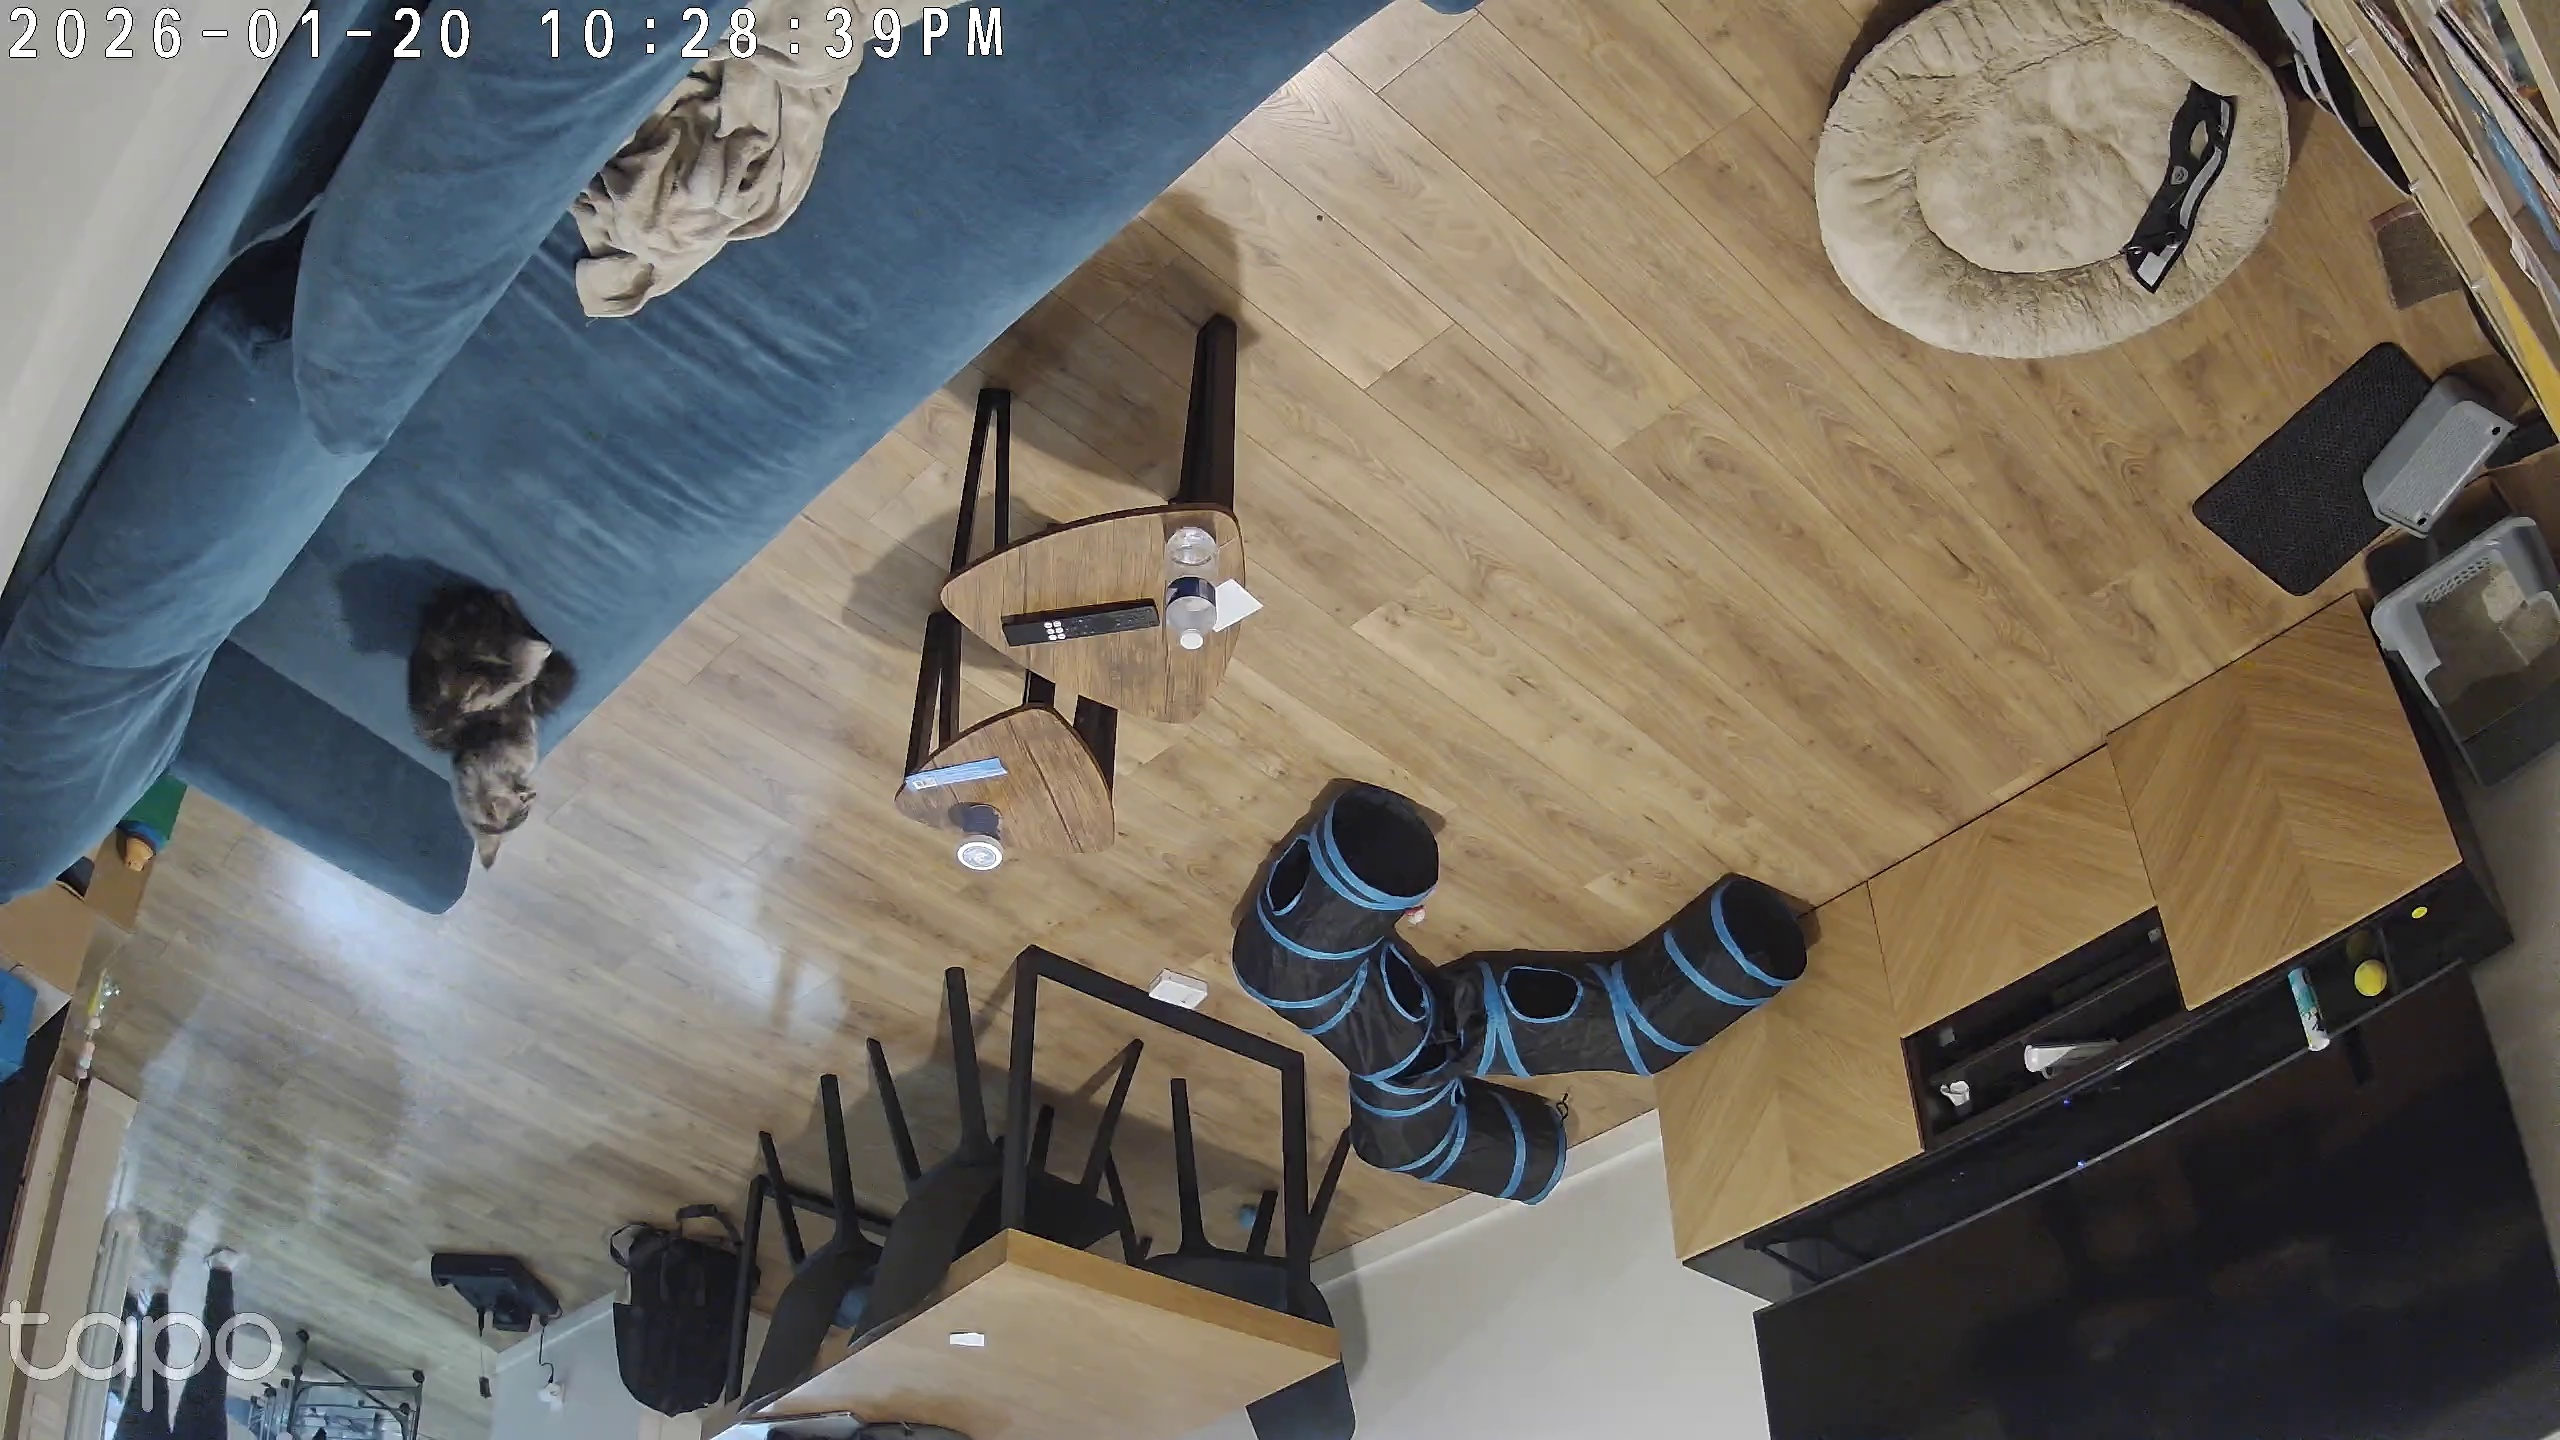Nala: (389, 557, 603, 886)
